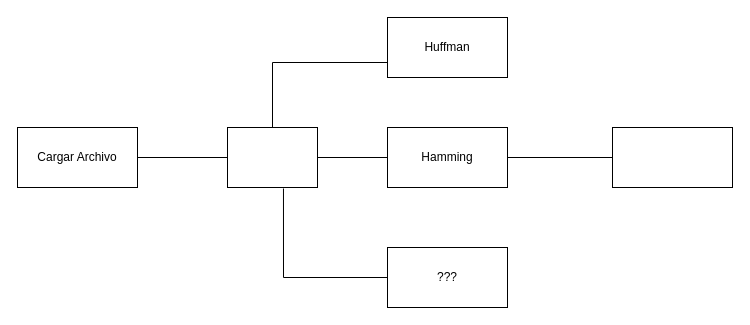
Some shapes in this 750 by 325 pixel diagram are drawn without their labels. The shapes that lost their labels are listed below. From the top down, each one's centre as x and y in pixels, then its label:
At point (272, 157): "Home".
At point (672, 157): "Comparar Archivos".
